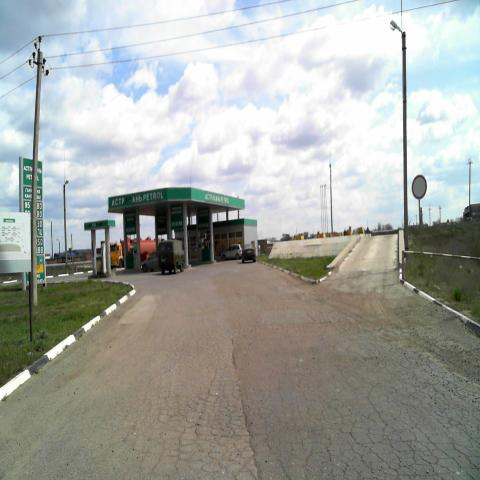3_2: (411, 174, 428, 201)
